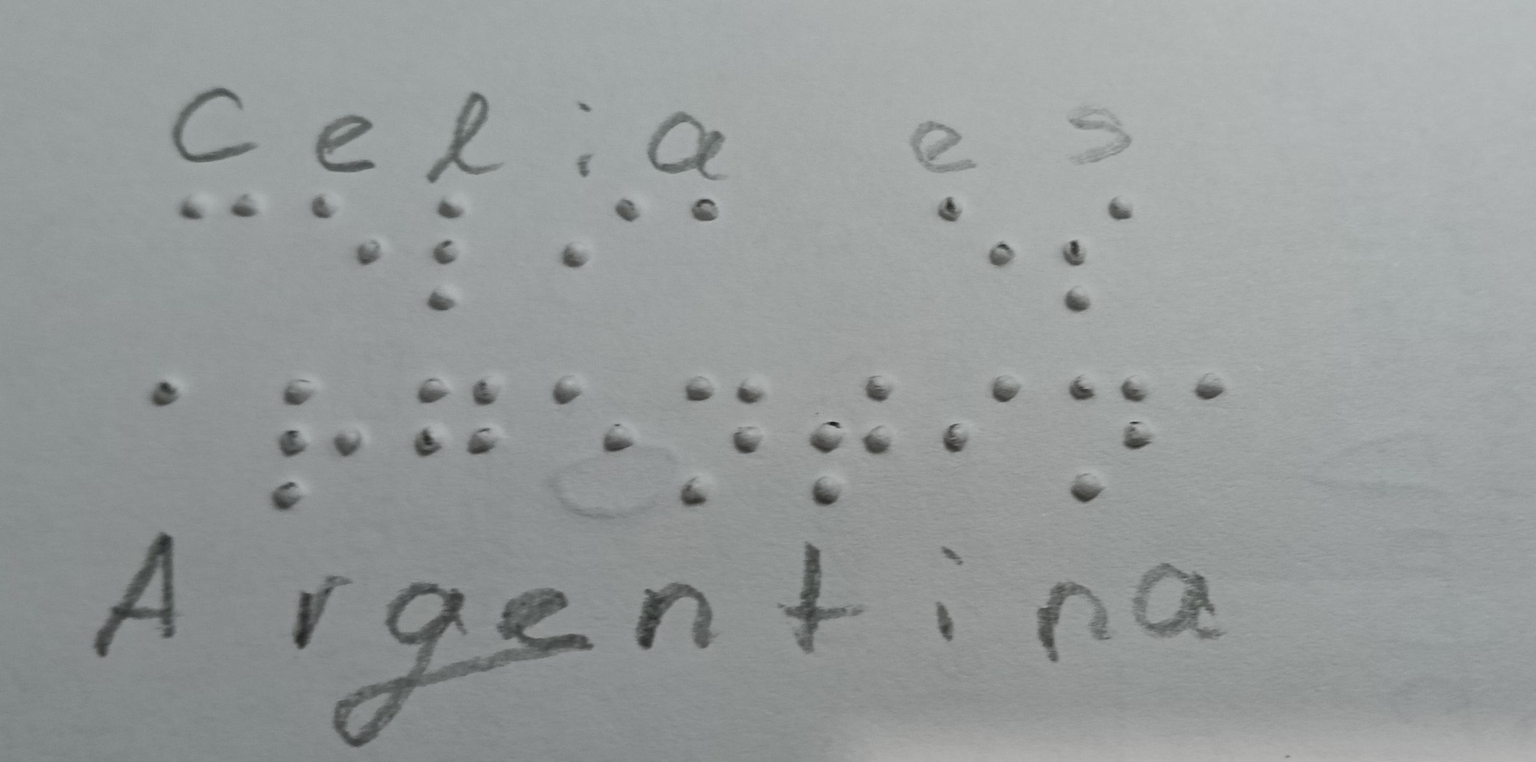a: (132, 356, 202, 462), (1173, 356, 1258, 422), (664, 190, 749, 235)
c: (165, 176, 276, 242)
e: (528, 365, 636, 475), (921, 186, 1025, 287), (297, 177, 391, 285)
g: (391, 358, 514, 476)
i: (935, 355, 1025, 515), (539, 190, 650, 280)
l: (410, 184, 476, 327)
n: (664, 351, 772, 518), (1055, 360, 1164, 516)
r: (249, 367, 374, 522)
s: (1043, 191, 1152, 313)
t: (791, 355, 911, 522)
